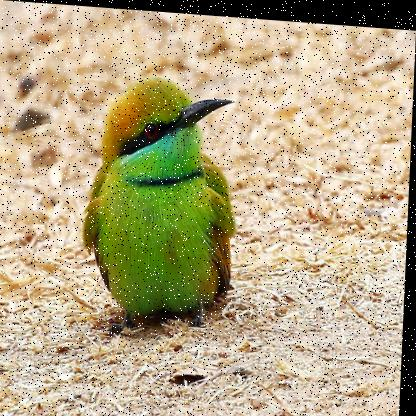Burung: (81, 71, 236, 341)
